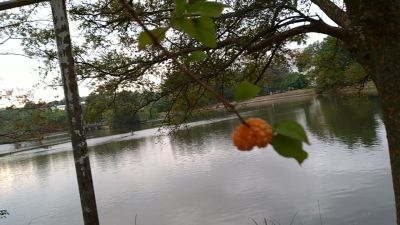eggs: (231, 115, 274, 155)
